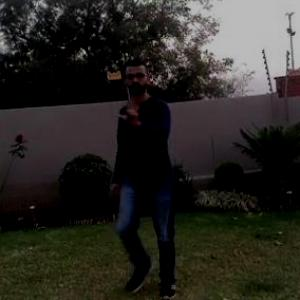land_hand: (114, 96, 145, 129)
